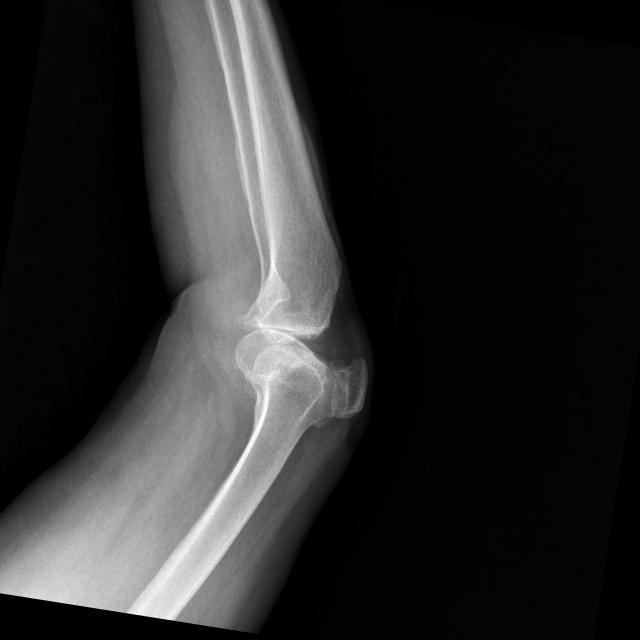Knee: (222, 268, 384, 438)
